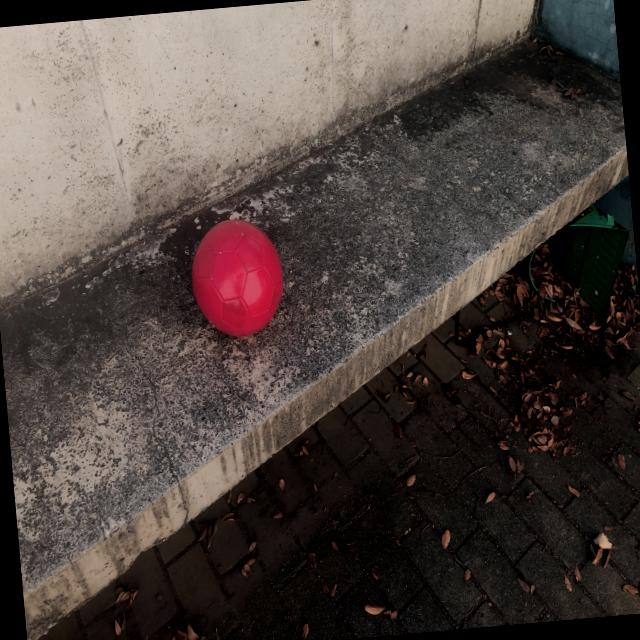red_ball: (186, 216, 286, 342)
